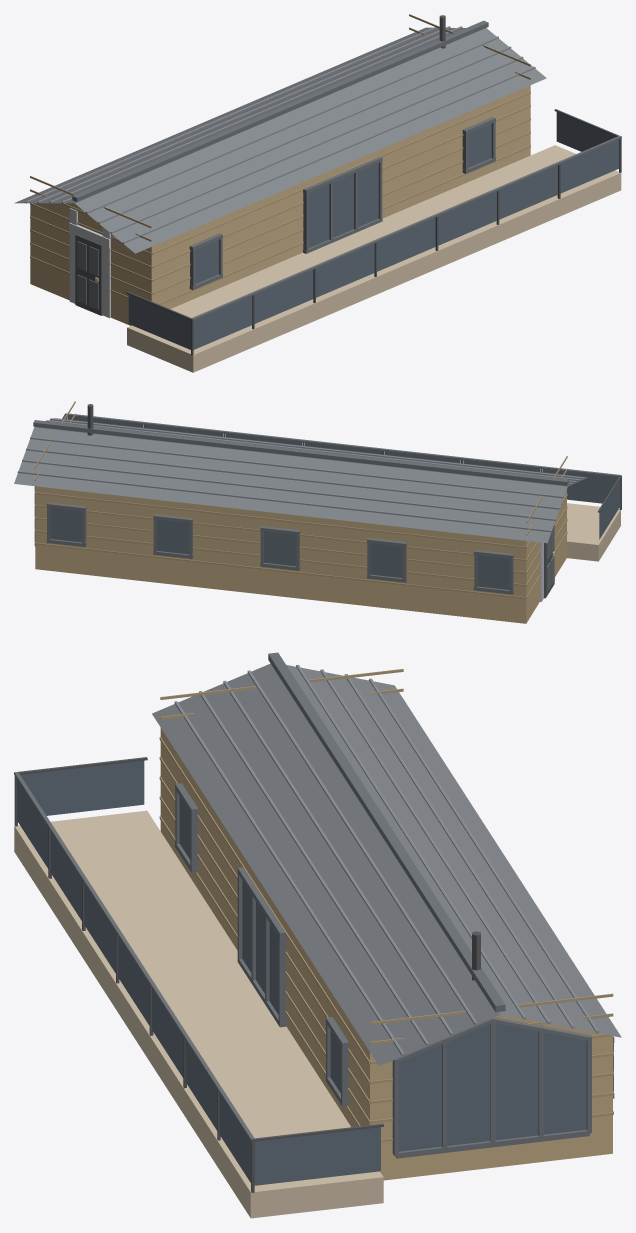
The picture shows the model from 3 angles, top to bottom: view 1: azimuth 30°, elevation 25°; view 2: azimuth 150°, elevation 25°; view 3: azimuth 270°, elevation 25°; orthographic projection. The views are drawn at different scales.
Visible parts, largest first — view 1: slate, door_wood, larch, slate_dk, slate_lt, door_wood_p, window_glass_008, window_glass_007, window_glass_001, window_glass_002, window_glass_003, window_glass_004 (+12 smaller); view 2: door_wood, slate, slate_dk, slate_lt, door_wood_p, larch, window_glass_001, window_glass_020, window_glass_016, window_glass_019, window_glass_017, window_glass_018 (+4 smaller); view 3: slate, larch, door_wood, slate_dk, window_glass_015, slate_lt, door_wood_p, window_glass_009, window_glass_008, pipe, window_glass_006, window_glass_003 (+7 smaller).
Part boxes in pixels (box(x1,y1,x2,y2)): slate: box(14, 27, 546, 253); door_wood: box(30, 85, 530, 325); larch: box(127, 145, 621, 372); slate_dk: box(72, 20, 621, 320); slate_lt: box(25, 26, 535, 243); door_wood_p: box(30, 14, 530, 304); window_glass_008: box(128, 294, 190, 349); window_glass_007: box(560, 139, 619, 193); window_glass_001: box(193, 296, 252, 349); window_glass_002: box(254, 270, 313, 323); window_glass_003: box(316, 243, 374, 297); window_glass_004: box(377, 217, 435, 271); door_wood: box(35, 486, 566, 623); slate: box(14, 418, 587, 543); slate_dk: box(33, 413, 620, 594); slate_lt: box(17, 418, 584, 532); door_wood_p: box(34, 401, 567, 599); larch: box(567, 503, 620, 561); window_glass_001: box(543, 469, 618, 503); window_glass_020: box(477, 555, 509, 589); window_glass_016: box(50, 508, 82, 542); window_glass_019: box(370, 543, 402, 577); window_glass_017: box(157, 519, 188, 554); window_glass_018: box(264, 531, 295, 566); slate: box(152, 663, 621, 1065); larch: box(14, 810, 383, 1218); door_wood: box(160, 728, 612, 1180); slate_dk: box(14, 652, 614, 1158); window_glass_015: box(399, 1023, 586, 1151); slate_lt: box(174, 664, 598, 1055); door_wood_p: box(159, 669, 613, 1142); window_glass_009: box(254, 1127, 380, 1185); window_glass_008: box(20, 760, 144, 815); pipe: box(14, 757, 480, 1192); window_glass_006: box(185, 1041, 217, 1130); window_glass_003: box(84, 884, 115, 973).
Bounding box in the file's own units: 16.65 × 4.06 × 10.6.
